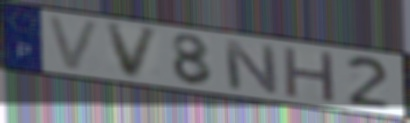2: (343, 55, 392, 112)
8: (169, 33, 216, 88)
H: (281, 44, 338, 105)
N: (220, 37, 281, 97)
V: (44, 13, 104, 73), (103, 22, 162, 80)
